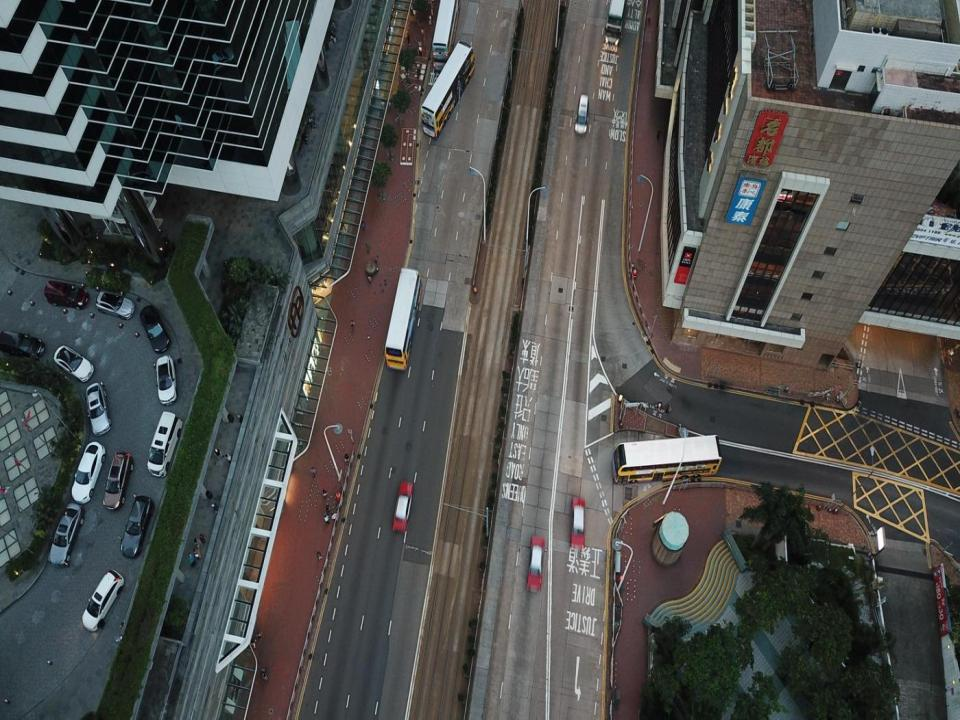bus: (612, 430, 722, 488), (422, 42, 476, 137), (386, 268, 422, 370), (431, 0, 461, 73), (606, 0, 630, 46)
car: (82, 567, 126, 630), (72, 442, 107, 502), (48, 503, 82, 564), (120, 496, 154, 557), (103, 453, 134, 512), (139, 306, 172, 356), (52, 345, 96, 382), (87, 380, 110, 435), (95, 289, 134, 319), (156, 354, 178, 405), (526, 534, 544, 594), (393, 483, 414, 533), (570, 496, 586, 546), (574, 94, 590, 134)
van: (146, 409, 183, 478), (0, 326, 45, 359), (44, 277, 90, 309)
